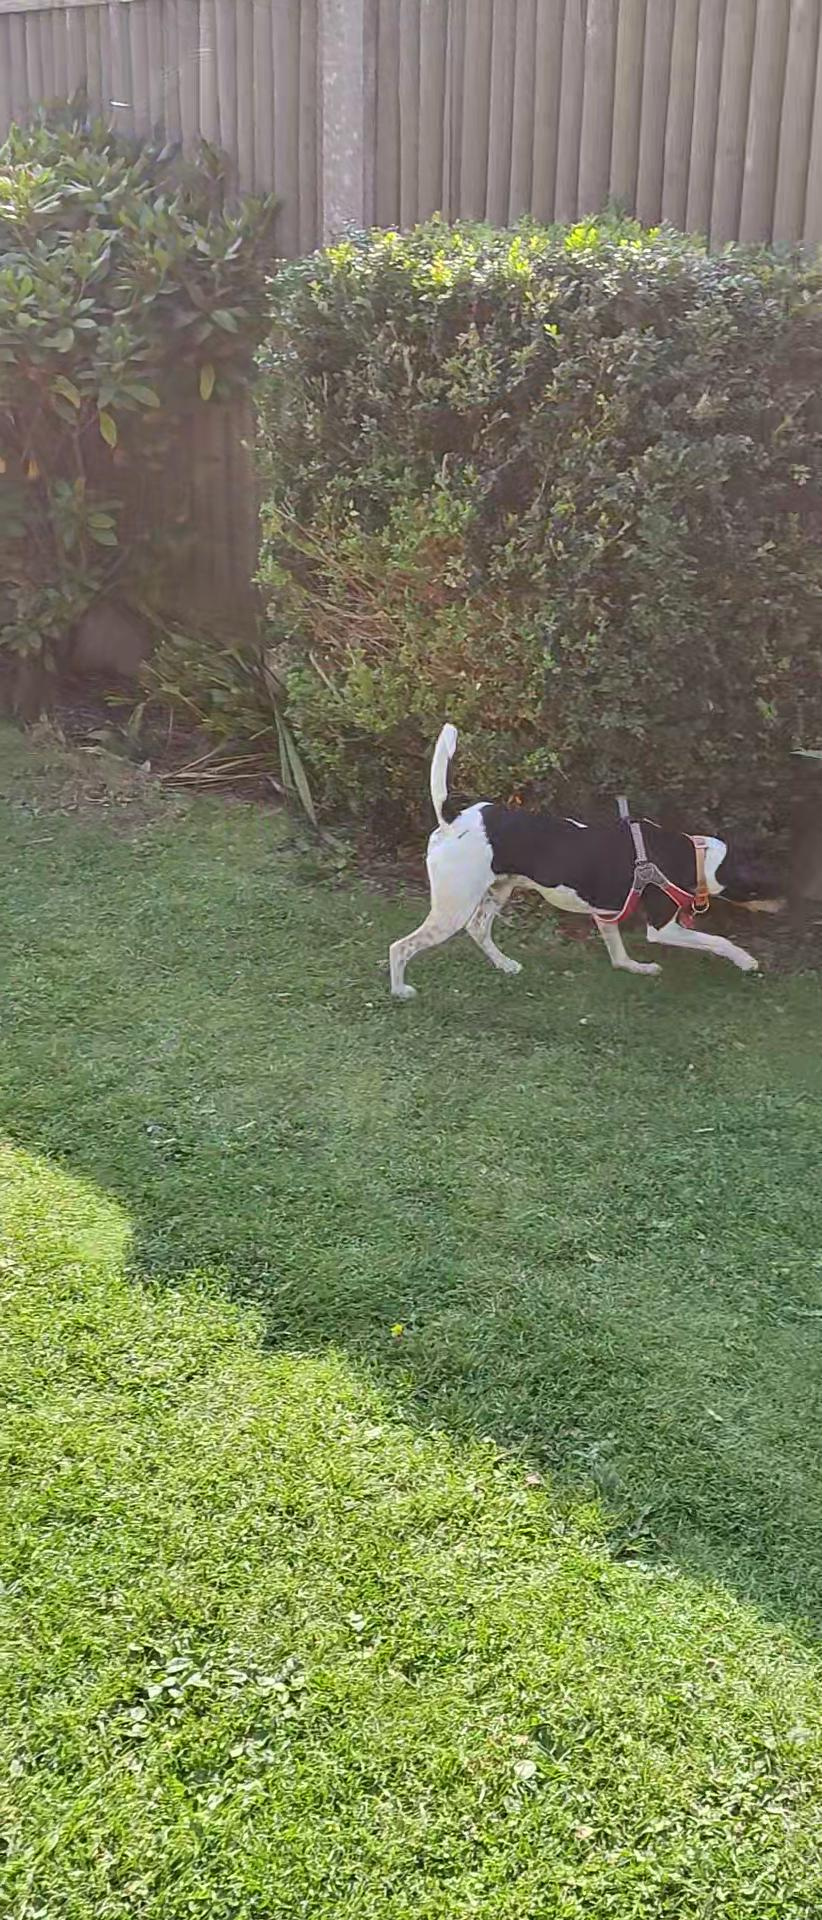Dog: (377, 718, 793, 1010)
